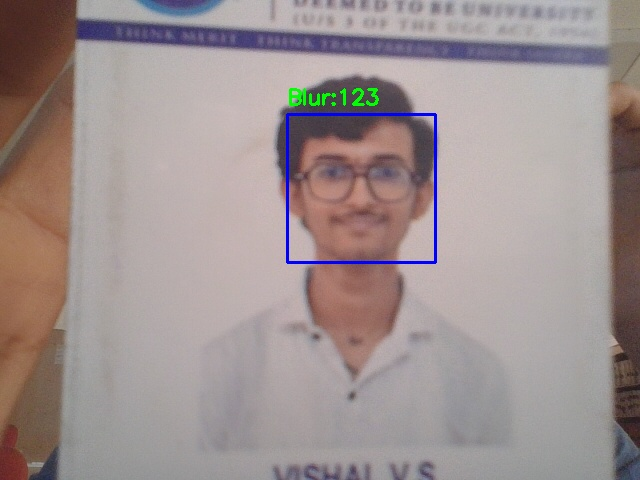fake: (287, 114, 435, 262)
